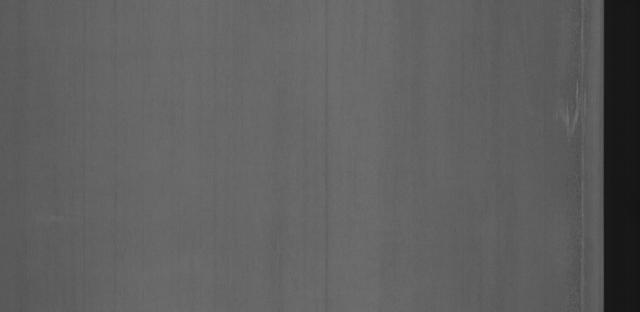silk_spot: (541, 59, 598, 148)
